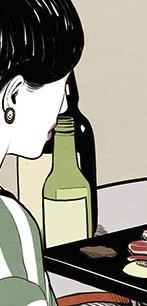bottle: (37, 110, 96, 249)
